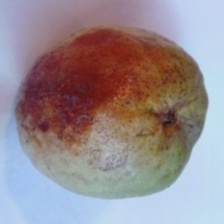guava: (46, 7, 212, 204)
